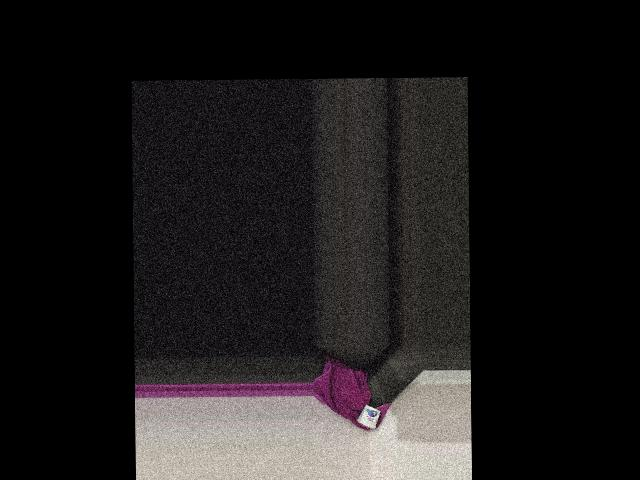cotage: (357, 405, 380, 430)
